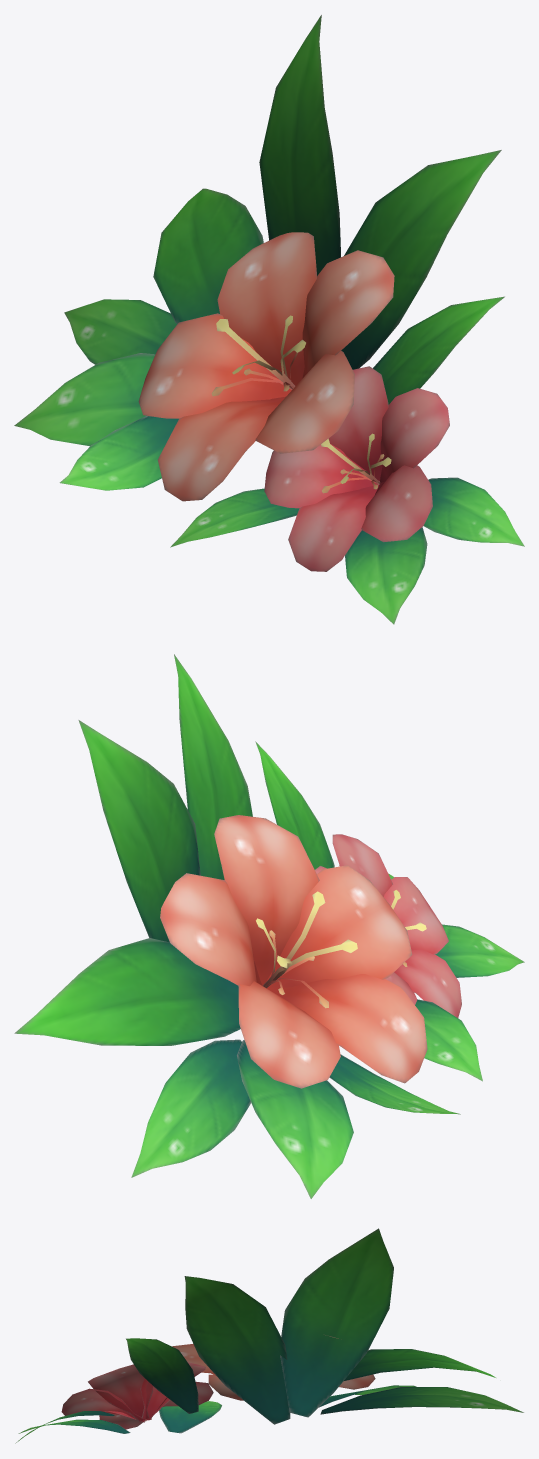
The model's file is scenes_town_plants02.FBX.
3 views of the same model, one above another, from view 1: azimuth 30°, elevation 25°; view 2: azimuth 150°, elevation 25°; view 3: azimuth 270°, elevation 25° (orthographic). The views are drawn at different scales.
Visible parts, largest first — view 1: scenes_town_plants02; view 2: scenes_town_plants02; view 3: scenes_town_plants02.
Boxes of the visible parts, x1=… form: scenes_town_plants02: x1=14, y1=15, x2=524, y2=624; scenes_town_plants02: x1=14, y1=654, x2=524, y2=1198; scenes_town_plants02: x1=15, y1=1228, x2=523, y2=1443.
Size of the model in its own units: 199 by 199 by 343.
